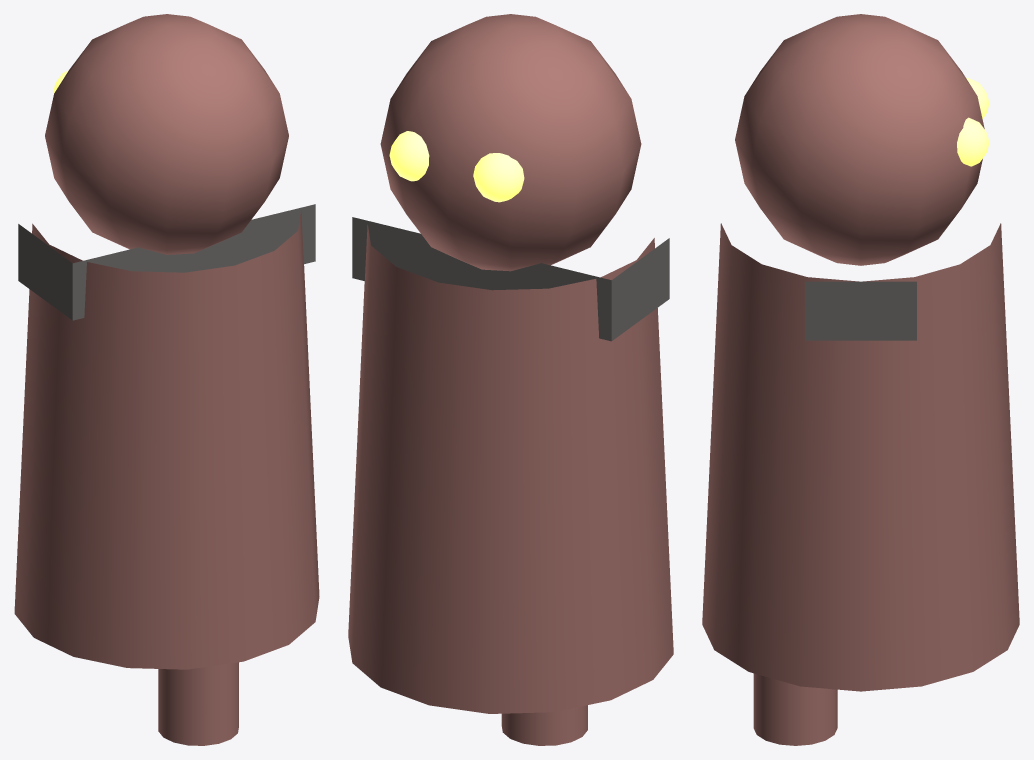
The model's file is model.monster.glb.
The picture shows the model from 3 angles, left to right: view 1: azimuth 30°, elevation 25°; view 2: azimuth 150°, elevation 25°; view 3: azimuth 270°, elevation 25°; orthographic projection. The views are drawn at different scales.
Parts seen in each view (by area): view 1: monster; view 2: monster; view 3: monster.
Part boxes in pixels (box(x1,y1,x2,y2)): monster: box(14, 14, 319, 745); monster: box(348, 14, 673, 745); monster: box(702, 14, 1019, 745).
Size of the model in its own units: 0.6802 by 1.66 by 0.6802.
